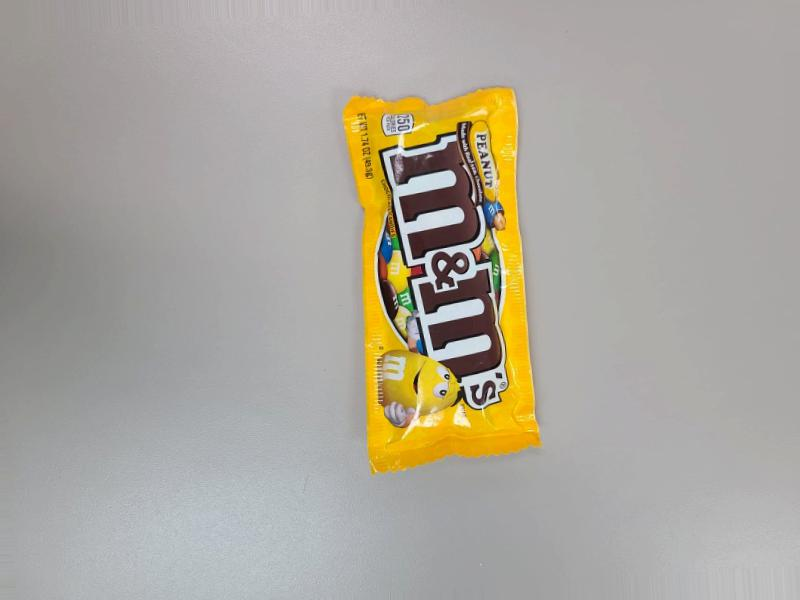m&m: (334, 71, 547, 483)
